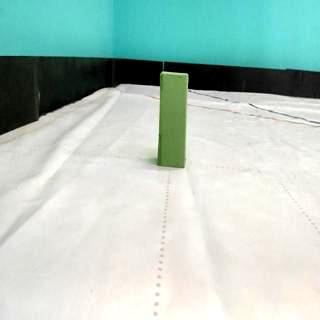greenbox: (157, 68, 190, 170)
